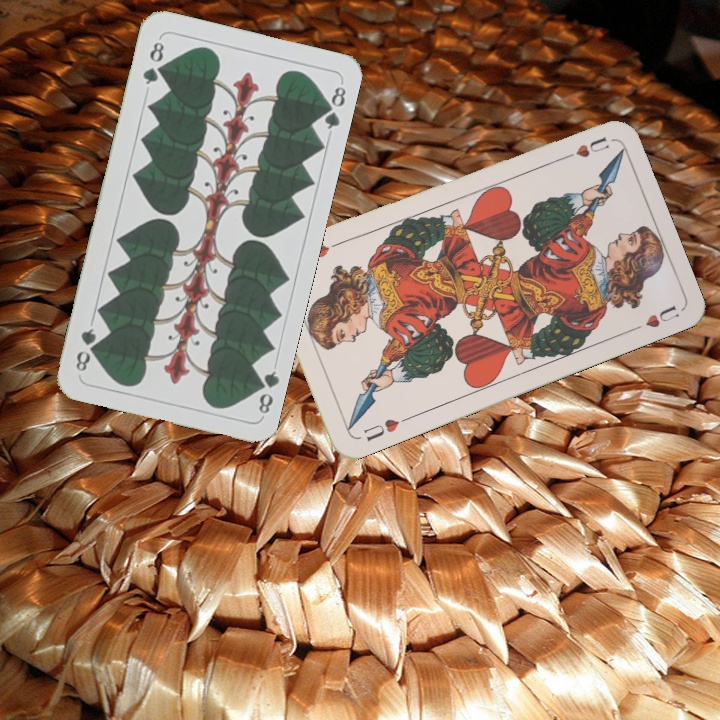G8: (249, 366, 281, 419), (138, 35, 167, 87)
HU: (556, 132, 612, 163), (359, 414, 402, 444)
